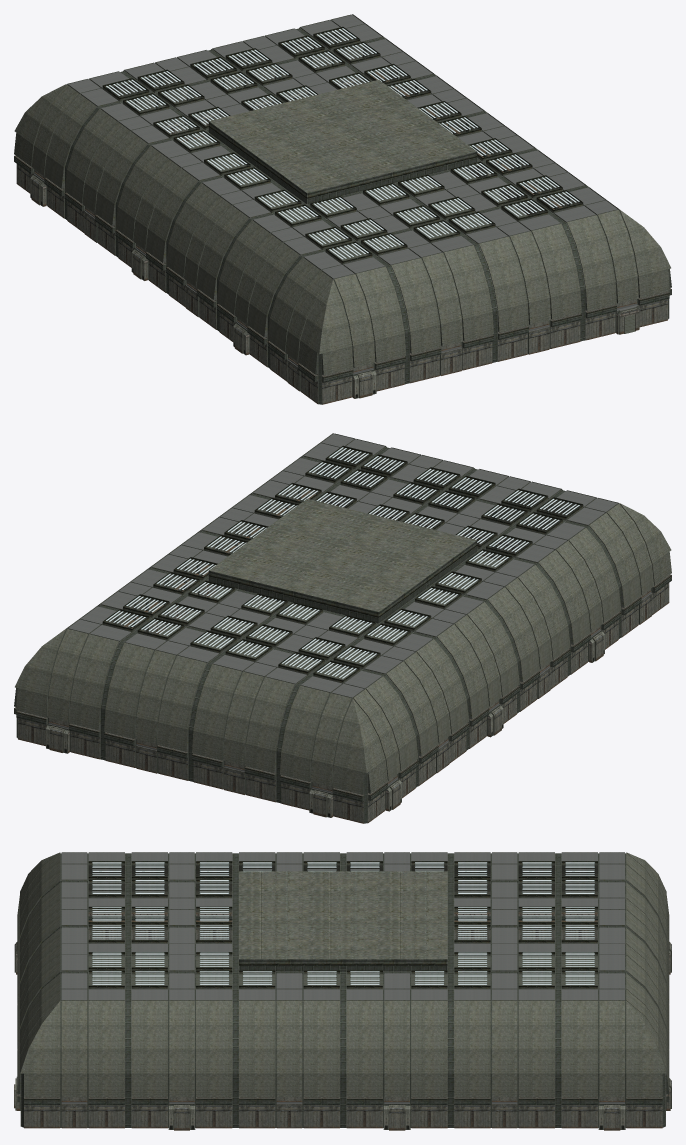
Rendered from poi_all_impl_bunker_crimelord_retreat_s01_r37_generatorroom_mesh_r37.fbx.
3 views of the same model, one above another, from view 1: azimuth 30°, elevation 25°; view 2: azimuth 150°, elevation 25°; view 3: azimuth 270°, elevation 25° (orthographic). The views are drawn at different scales.
Visible parts, largest first — view 1: mesh_node; view 2: mesh_node; view 3: mesh_node.
Boxes of the visible parts, x1,y1,x2,y2 form: mesh_node: (14, 14, 671, 404); mesh_node: (14, 433, 671, 823); mesh_node: (14, 852, 671, 1130).
Bounding box in the file's own units: 65.8 × 20 × 97.9.
